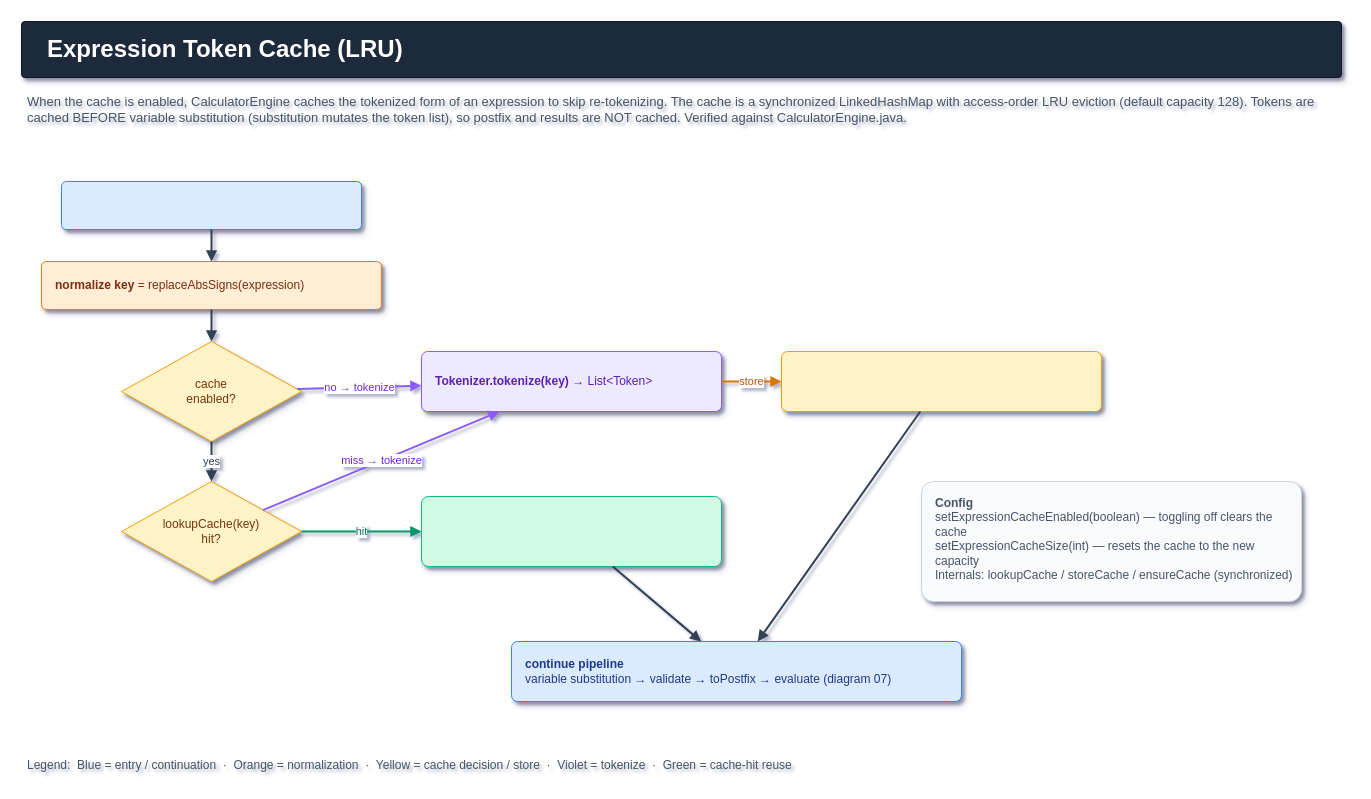
Image size: 1371x799. Some labels were removed from this diagram. The centre of each missing label's shape, as x and y in pixels:
"evaluate(expression [, variables])" goes at (212,206).
"reuse cached List<Token> copy before mutation (substitution edits in place)" goes at (572,533).
"storeCache(key, tokens) synchronized; LRU evict at capacity (default 128)" goes at (942,382).
